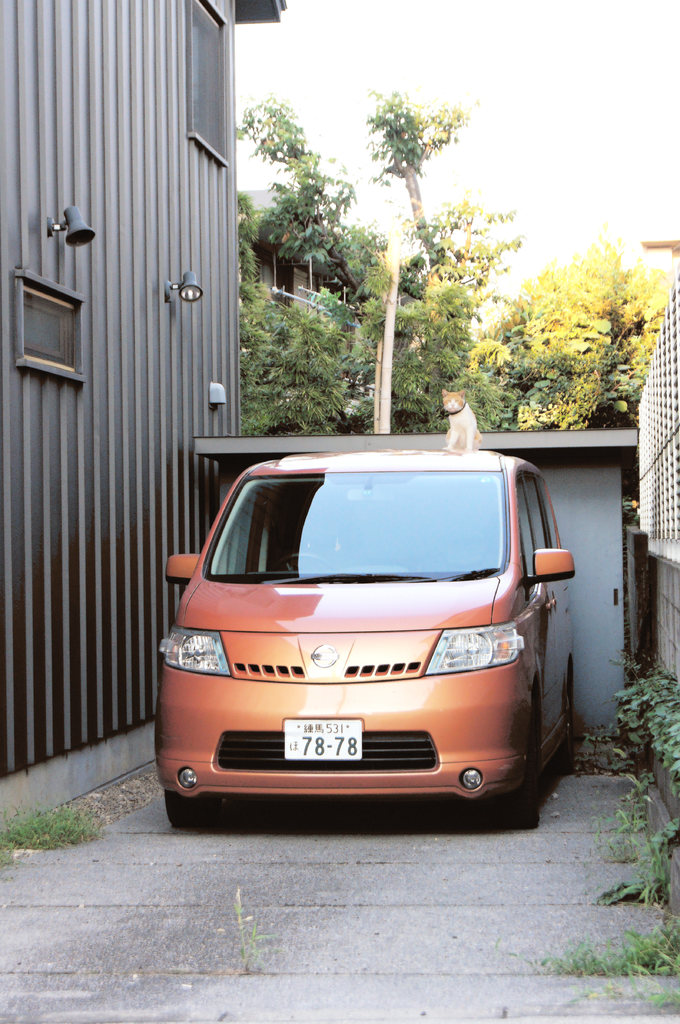mobil: (152, 445, 581, 848)
